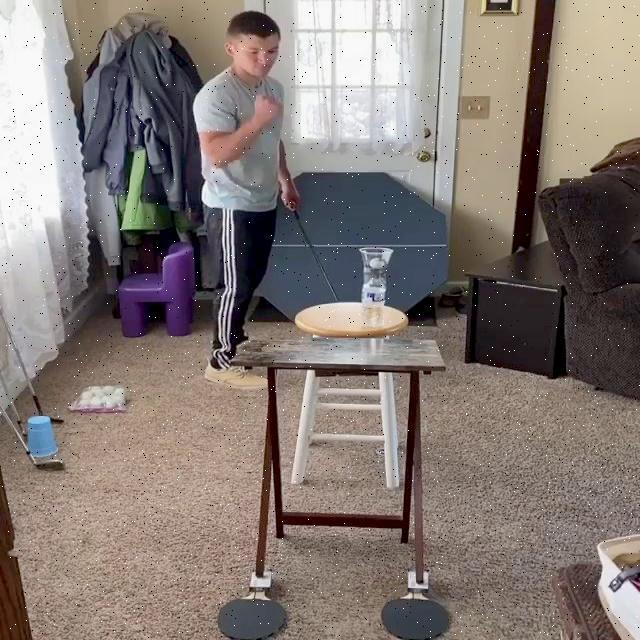golf club-handle: (289, 206, 341, 301)
